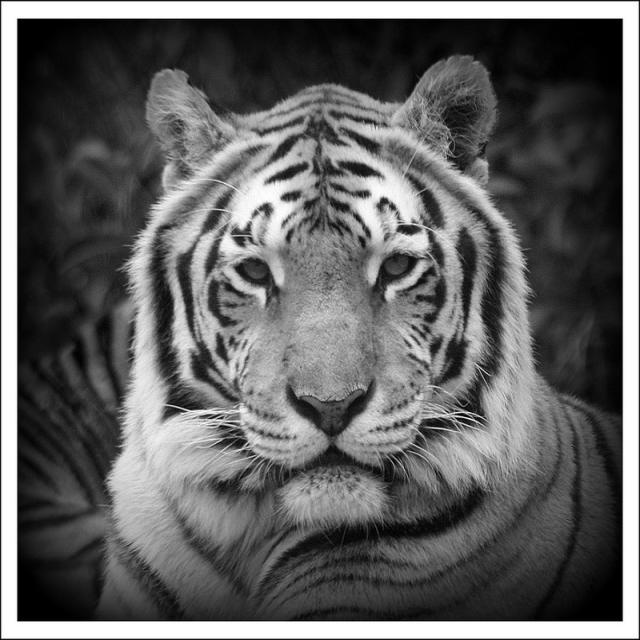Tiger: (103, 46, 614, 615)
